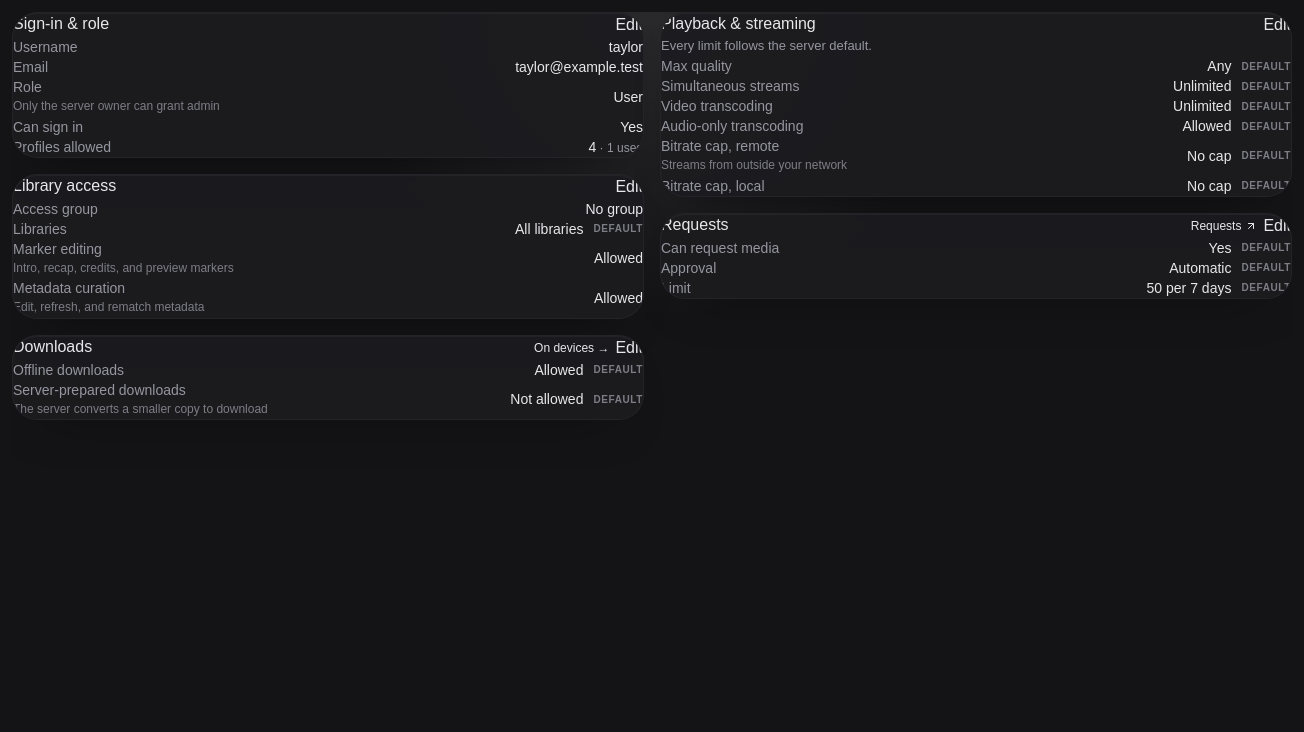
Test: card editing › refuses an invalid email before saving
Click the button with aria-label "Edit Sign-in & role" at (629, 25), box [615,13,643,37]
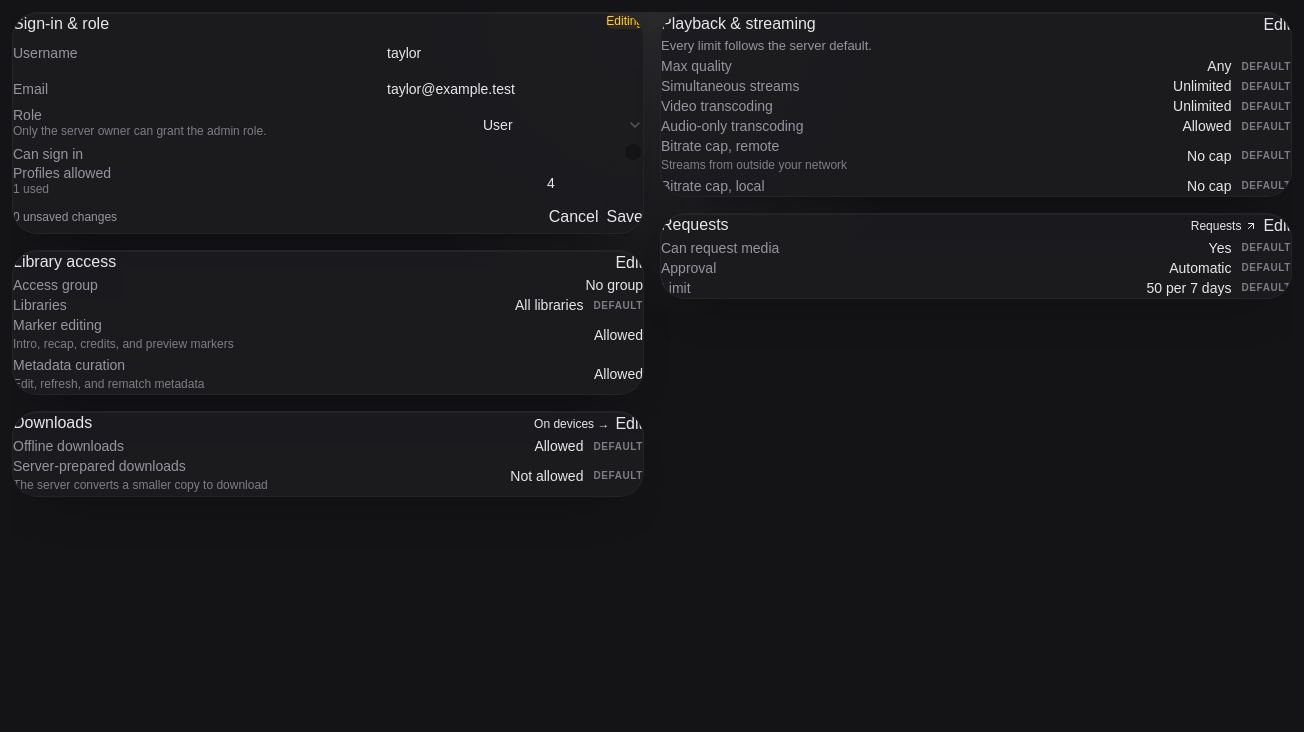
Replace the text in the field labelled "Email" with "not-an-email" at (515, 89), box [387,71,643,107]
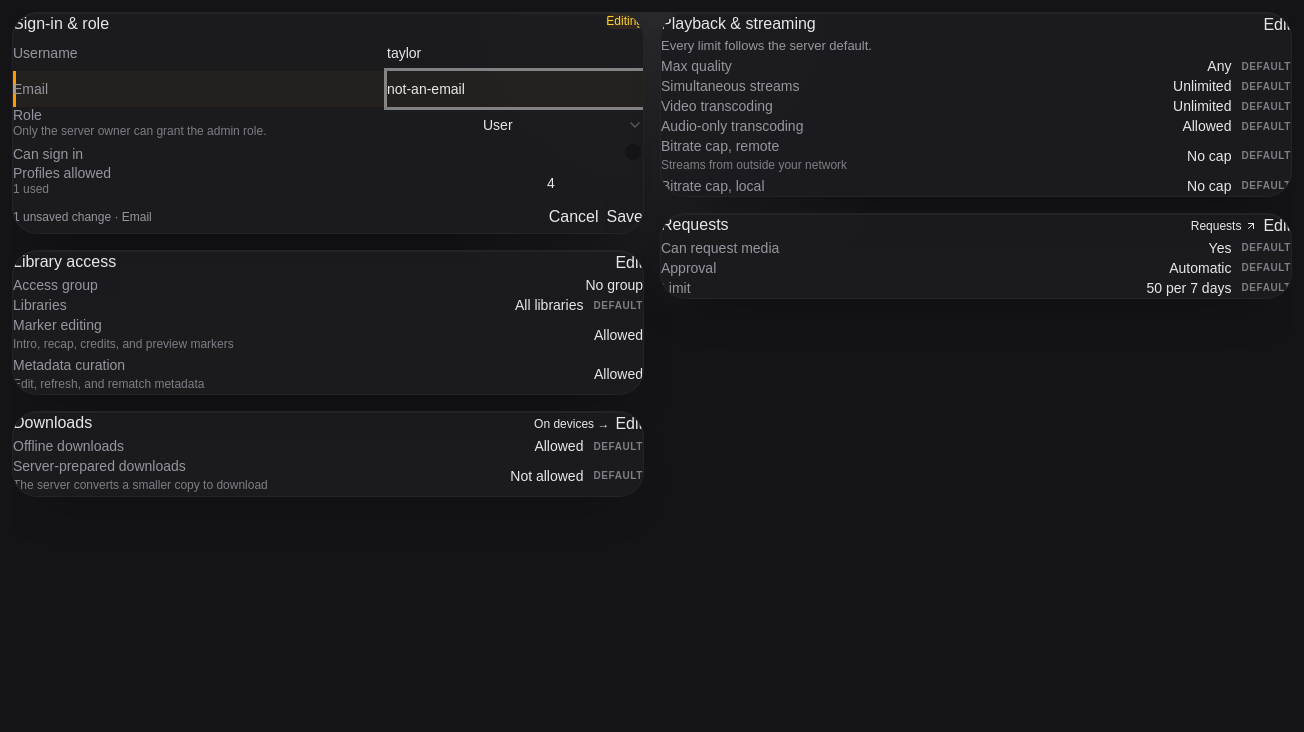
Click the button "Save" at (625, 217), box [606,201,643,233]
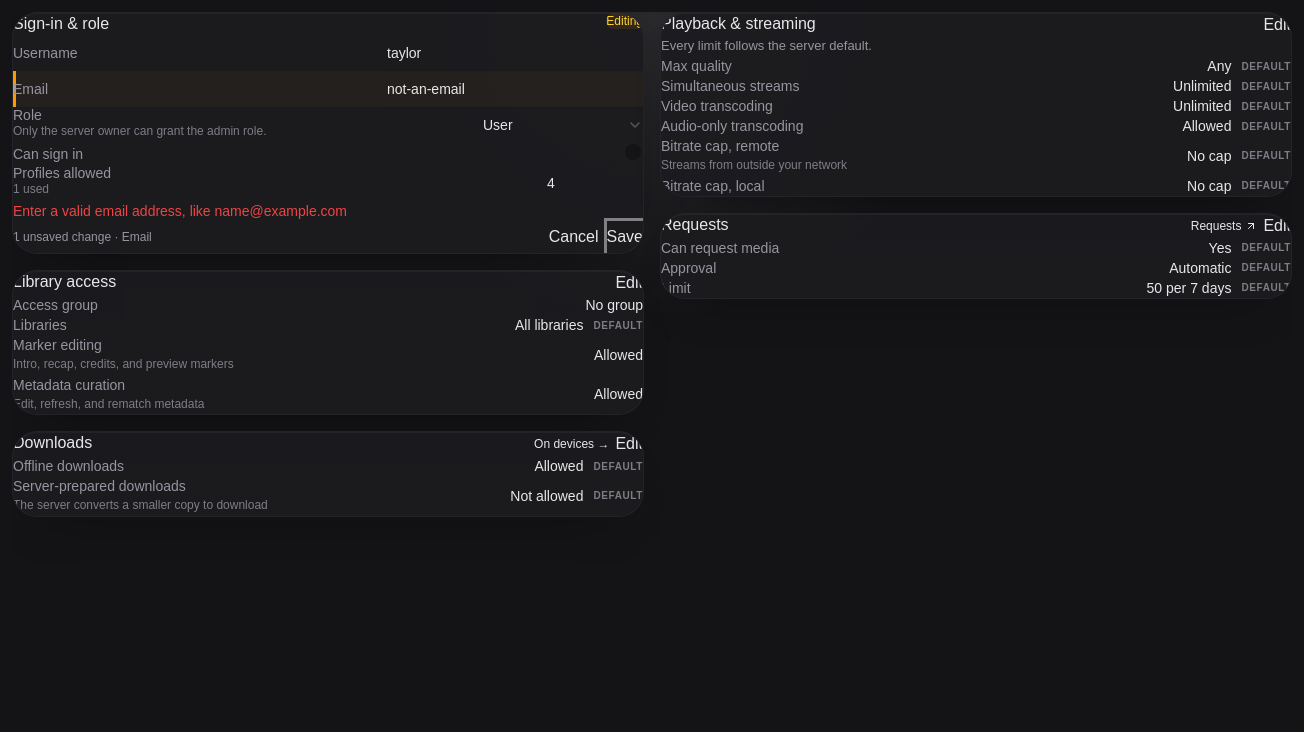
Now the message shows "Enter a valid email address", box [13,203,347,219]
